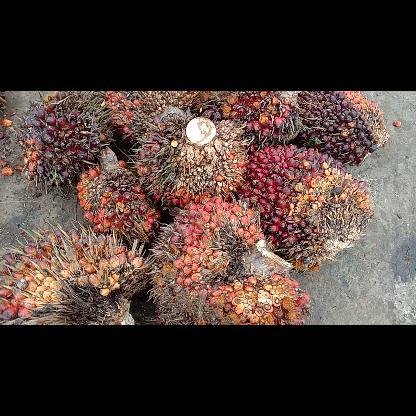TBS masak: (150, 198, 312, 324), (246, 141, 378, 266), (2, 232, 146, 324), (134, 108, 245, 214), (22, 91, 114, 187), (77, 146, 161, 240), (297, 91, 391, 167), (190, 92, 302, 144), (105, 92, 197, 142)
